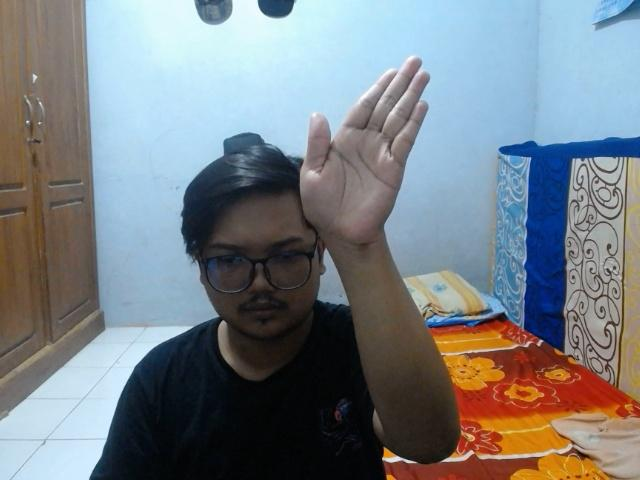Release: (293, 53, 432, 249)
